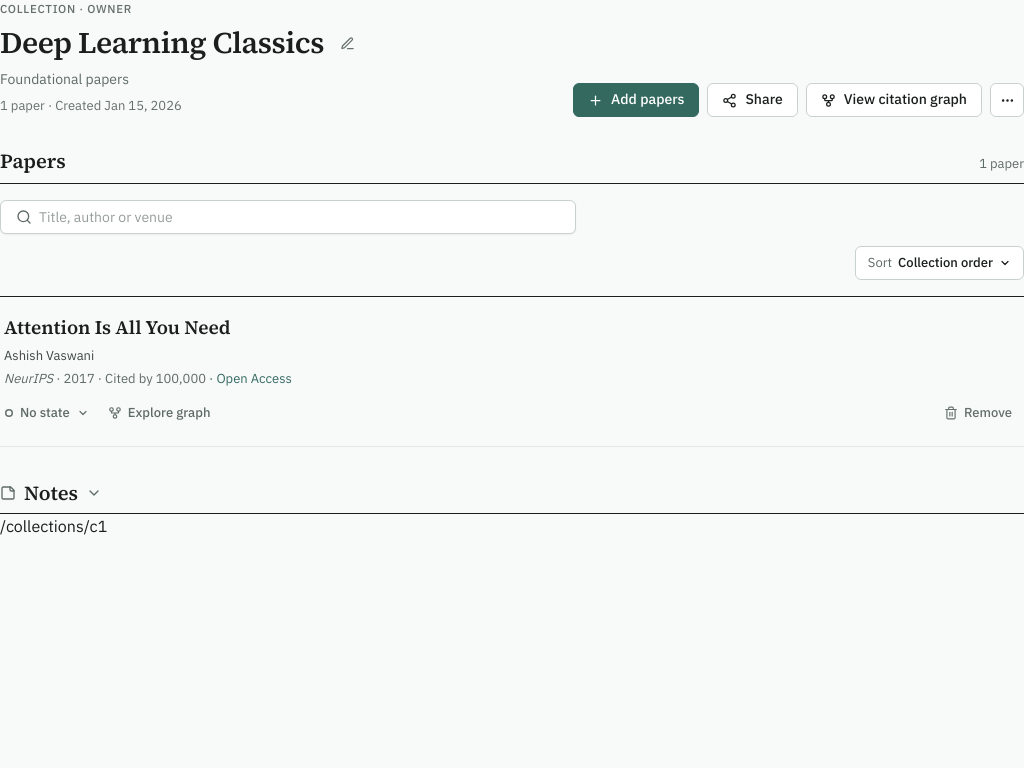
Test: CollectionDetailPage — adding papers › keeps Import DOIs in the More actions menu and returns focus to it
Expected: the button "Attention Is All You Need" is shown, left=4, top=315, right=1020, bottom=340
Expected: the button "Import DOIs" is not shown
Click the button named "More actions" at (1007, 100), box left=990, top=83, right=1023, bottom=117
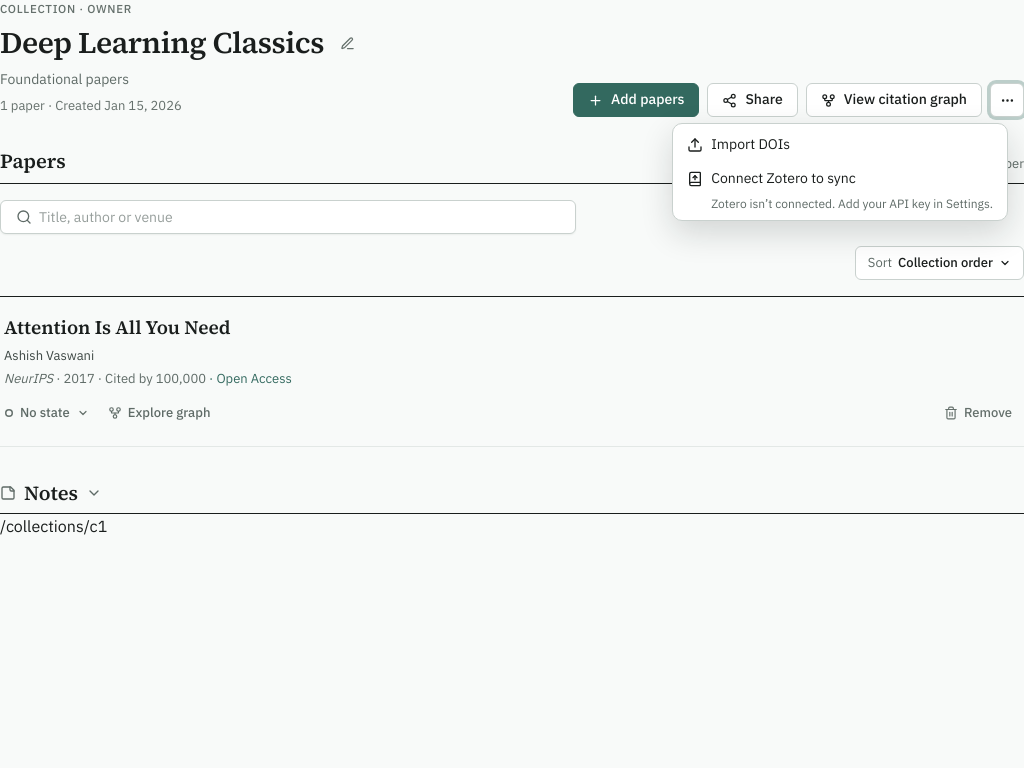
Click the menu item "Import DOIs" at (751, 144), box left=677, top=128, right=1003, bottom=162
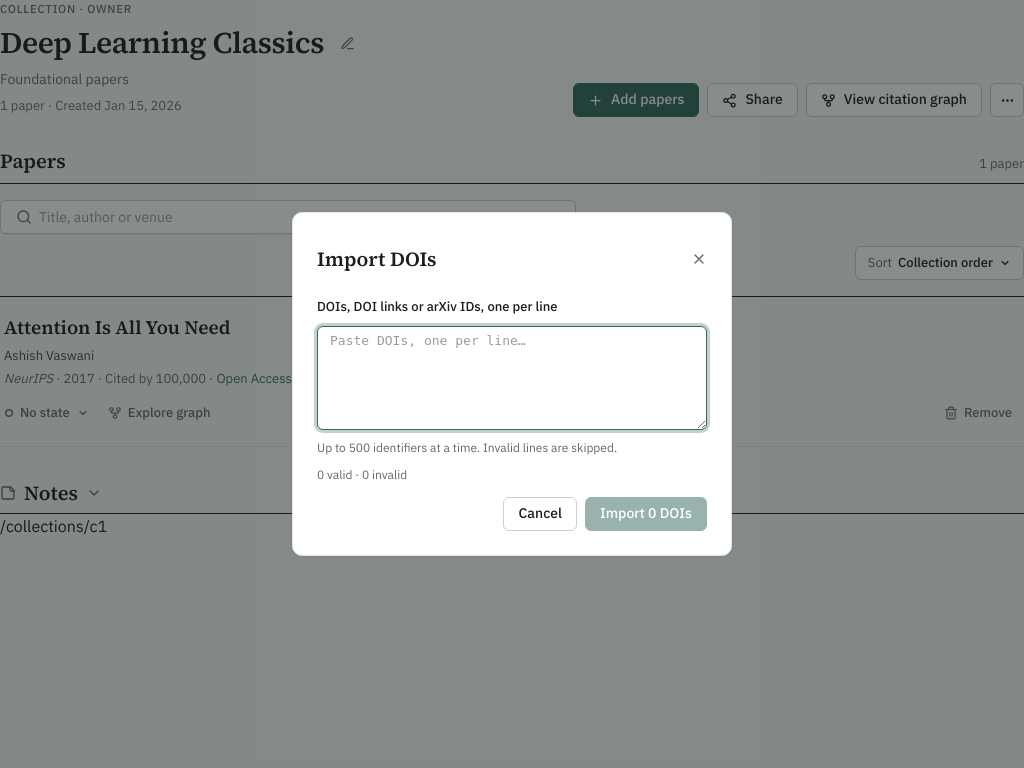
Expected: the menu is gone
Click the button "Cancel" at (540, 514), box left=504, top=497, right=577, bottom=531
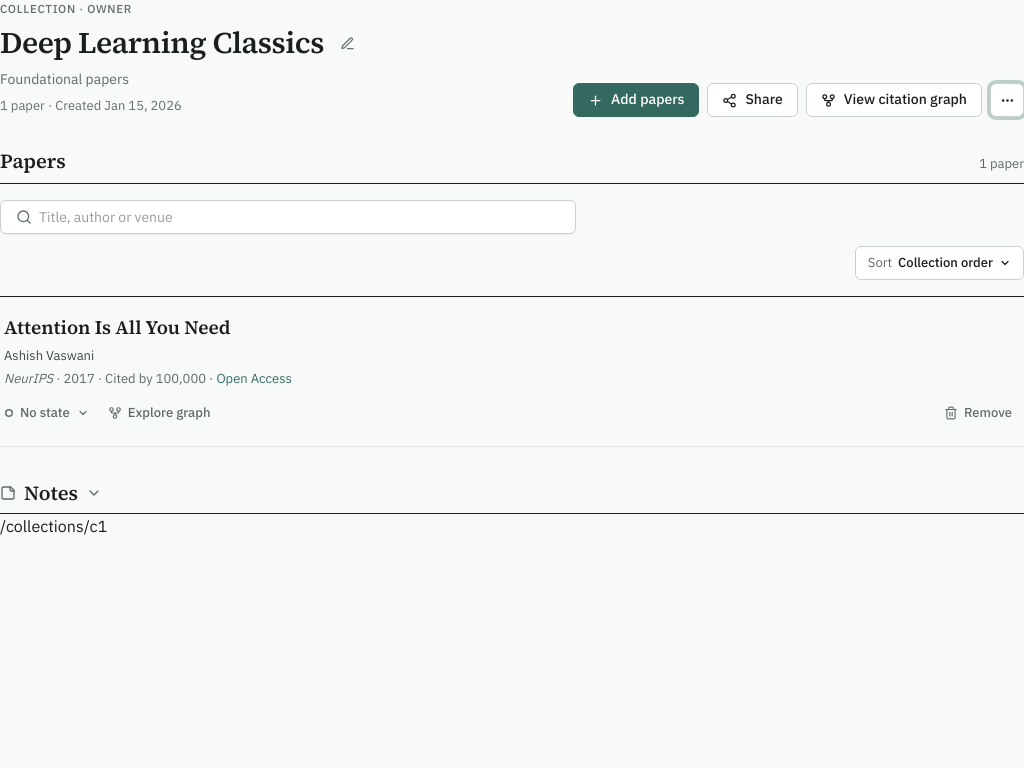
Expected: the dialog is gone
